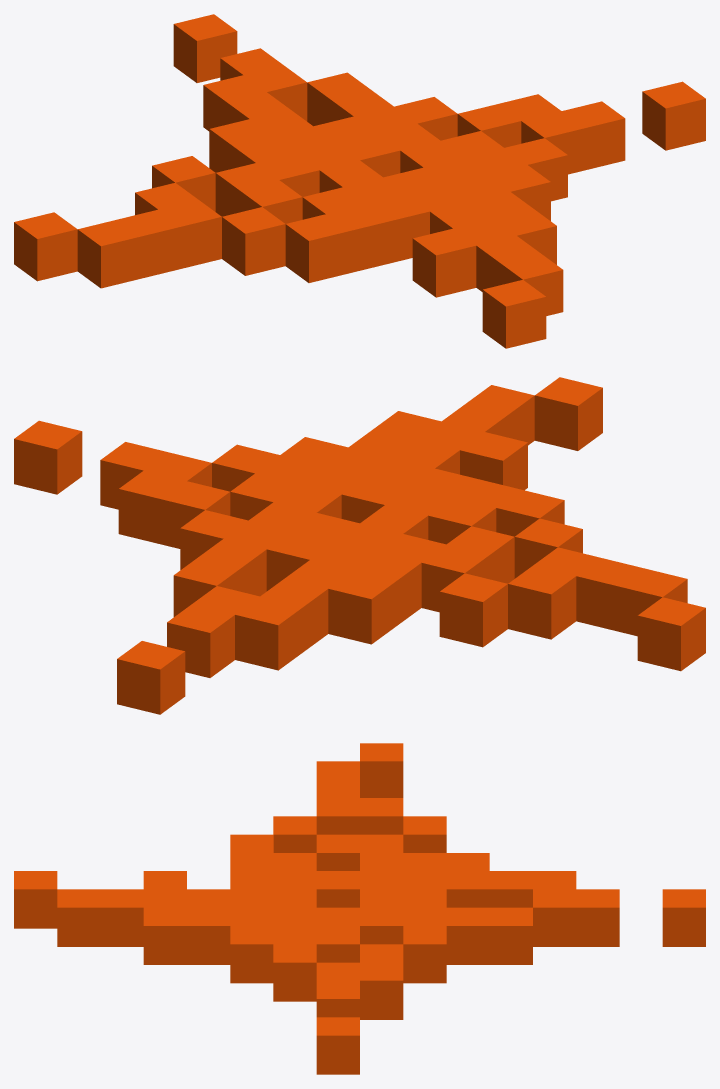
File: redstone_dust.glb
3 views of the same model, one above another, from view 1: azimuth 30°, elevation 25°; view 2: azimuth 150°, elevation 25°; view 3: azimuth 270°, elevation 25° (orthographic). The views are drawn at different scales.
Parts seen in each view (by area): view 1: empty_3; view 2: empty_3; view 3: empty_3.
Part boxes in pixels (x1=…): empty_3: x1=14, y1=14, x2=705, y2=348; empty_3: x1=14, y1=377, x2=705, y2=714; empty_3: x1=14, y1=743, x2=705, y2=1074.
Size of the model in its own units: 16 by 1 by 16.
